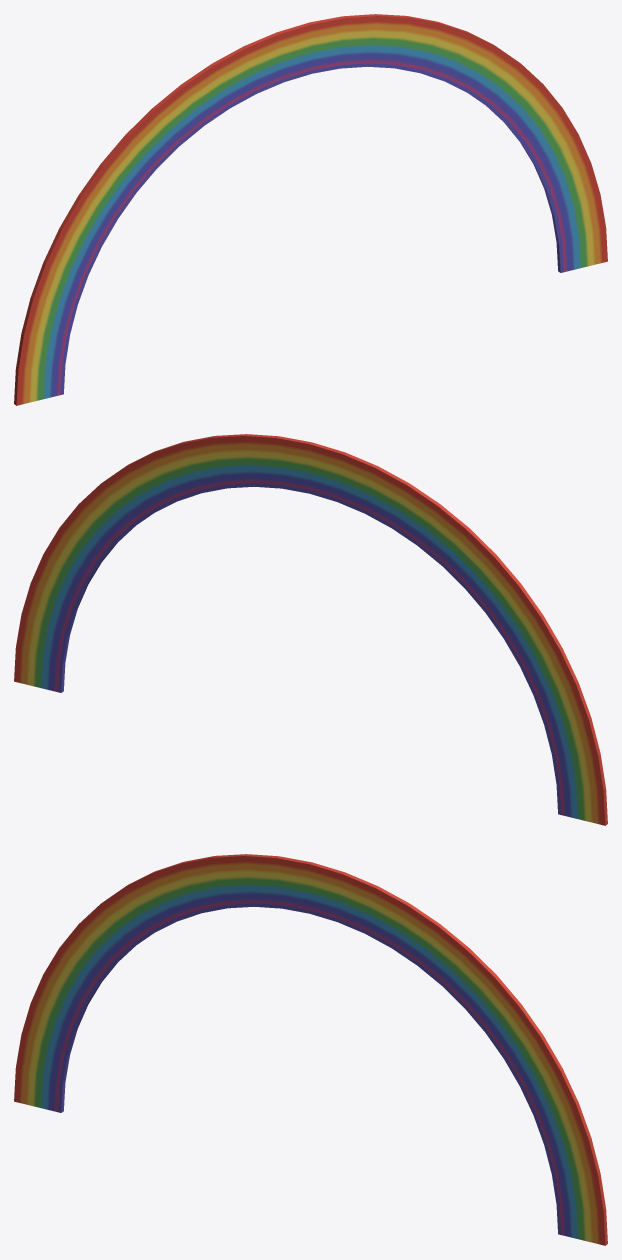
File: rainbow.obj
The picture shows the model from 3 angles, top to bottom: view 1: azimuth 30°, elevation 25°; view 2: azimuth 150°, elevation 25°; view 3: azimuth 330°, elevation 25°; orthographic projection.
Visible parts, largest first — view 1: rainbow; view 2: rainbow; view 3: rainbow.
Part boxes in pixels (x1,y1,x2,y2): rainbow: (14,14,607,405); rainbow: (14,434,607,825); rainbow: (14,854,607,1245).
Size of the model in its own units: 40 by 20 by 0.3.
Materials: 1 (1 with a texture image).
